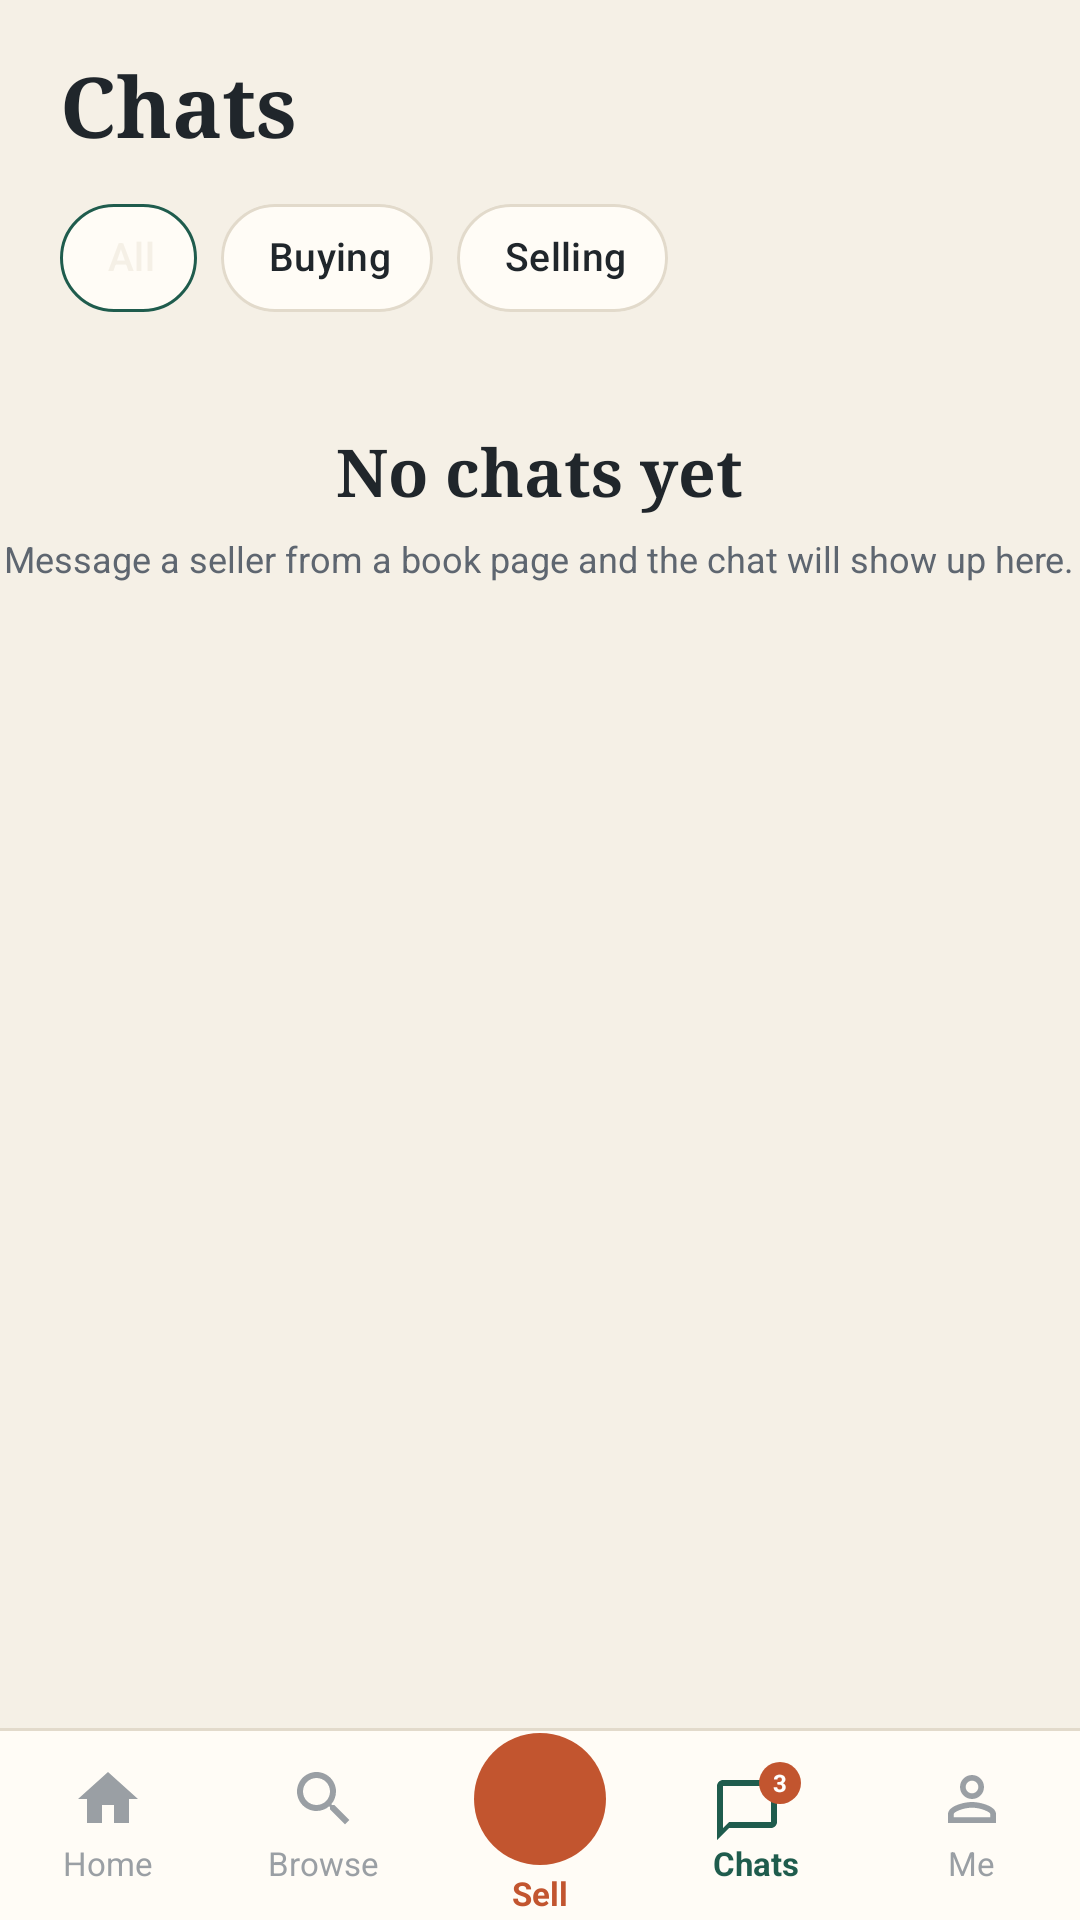

Icons on this 1080×1920 Android screen, each with the point to tap as (x=x, y=y):
person: (x=972, y=1799)
search: (x=323, y=1798)
